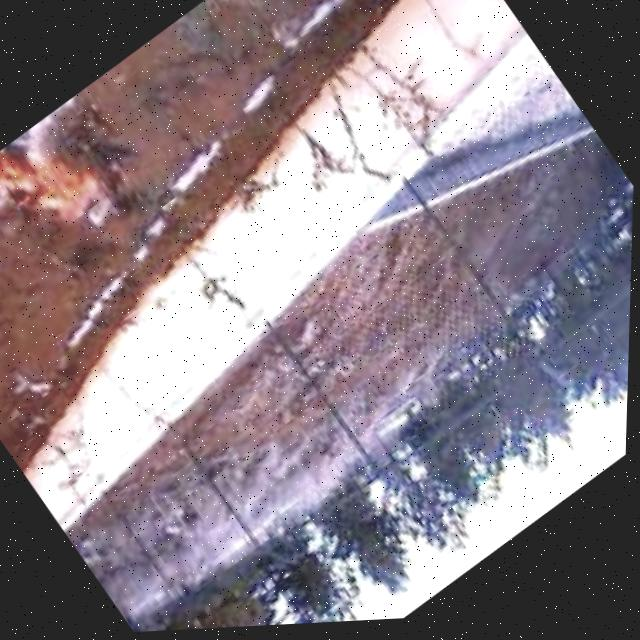Fire: (0, 102, 134, 300)
